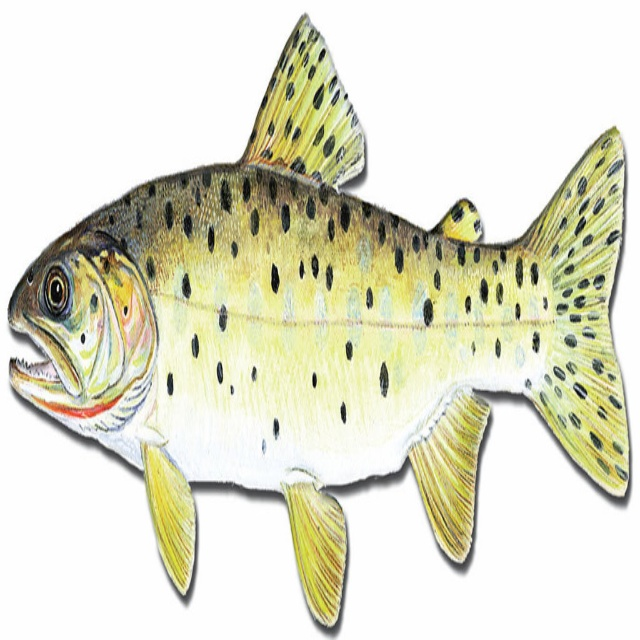Fish: (7, 11, 630, 629)
